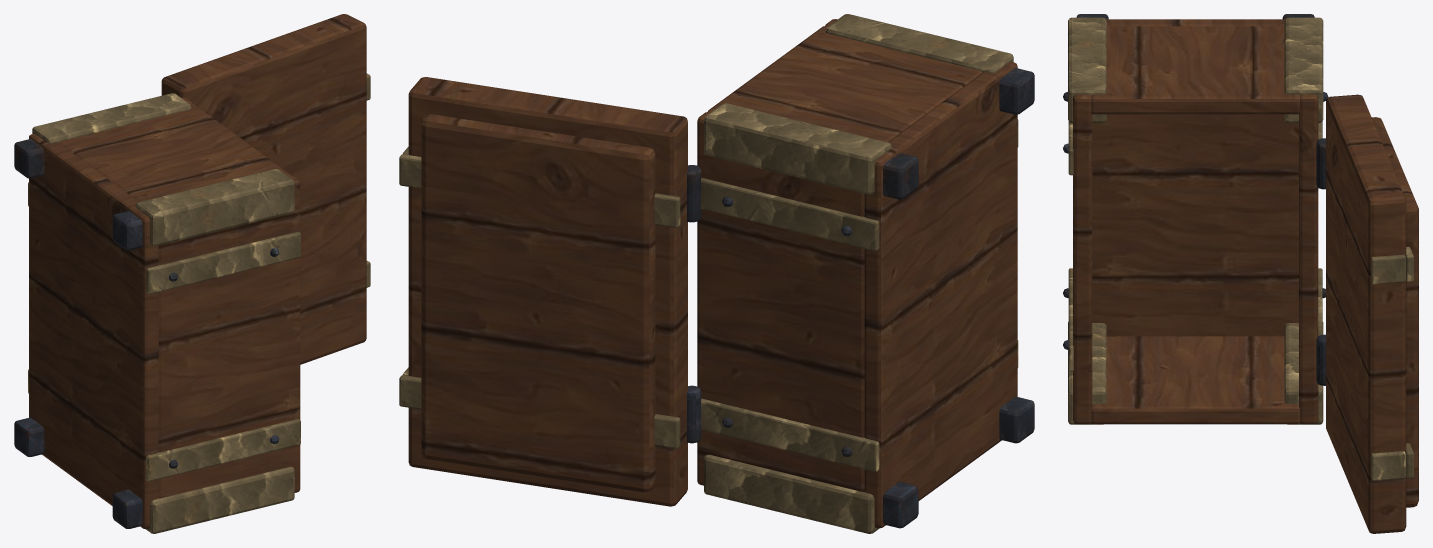
Rendered from bv_coin_chest_tipped_empty.glb.
3 renders of one model, left to right at view 1: azimuth 30°, elevation 25°; view 2: azimuth 150°, elevation 25°; view 3: azimuth 270°, elevation 25°, orthographic. The views are drawn at different scales.
Visible parts, largest first — view 1: model; view 2: model; view 3: model.
Part boxes in pixels (x1,y1,x2,y2): model: (14, 14, 370, 533); model: (399, 14, 1034, 533); model: (1063, 14, 1418, 533).
Bounding box in the file's own units: 0.7238 × 0.576 × 0.5518.
Materials: 3 (3 with a texture image).
